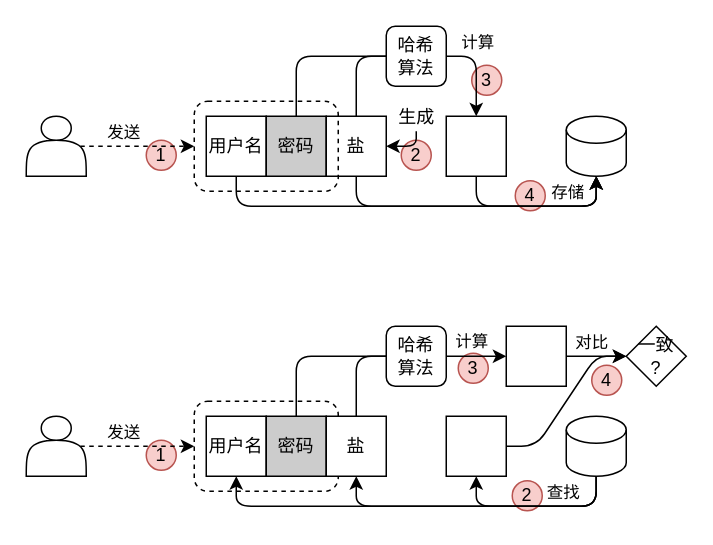
This 713x545 diagram has some shape labels left out. The box of each missing label's shape, as (x1, y1, x2, y2) in pixels:
哈希值: (445, 115, 506, 176)
哈希值 1: (445, 415, 506, 476)
哈希值 2: (505, 325, 566, 386)
